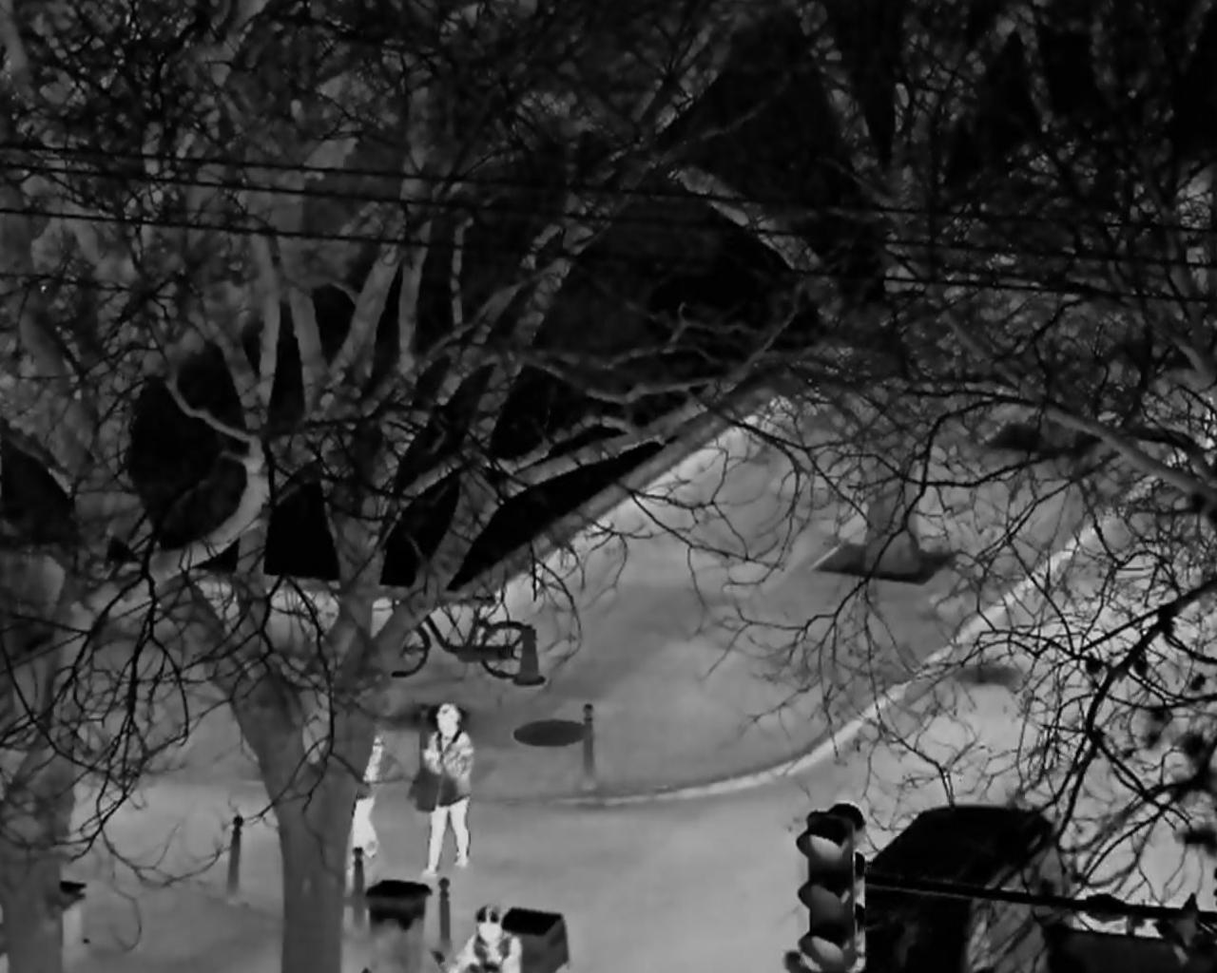person: (406, 700, 474, 877), (454, 902, 521, 973), (349, 737, 384, 858)
